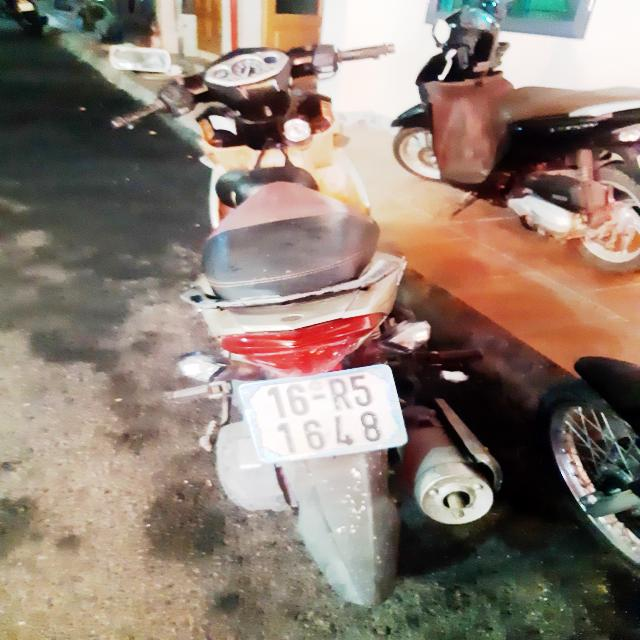license_plate: (221, 357, 420, 474)
